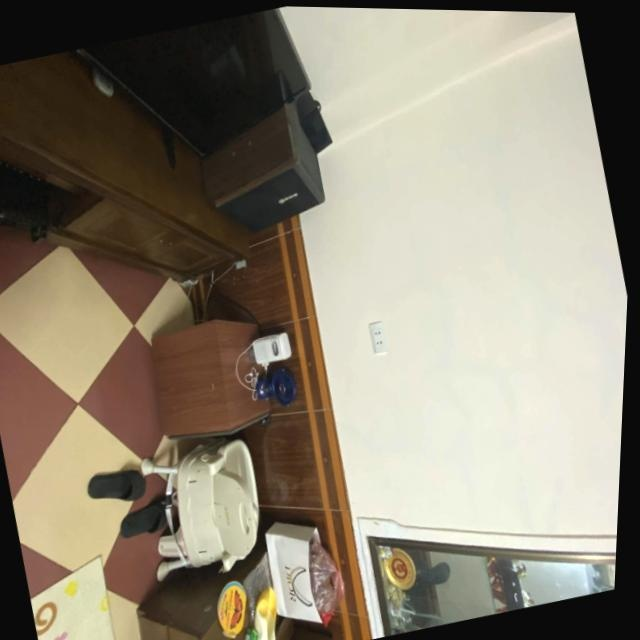outlet: (366, 320, 390, 355)
